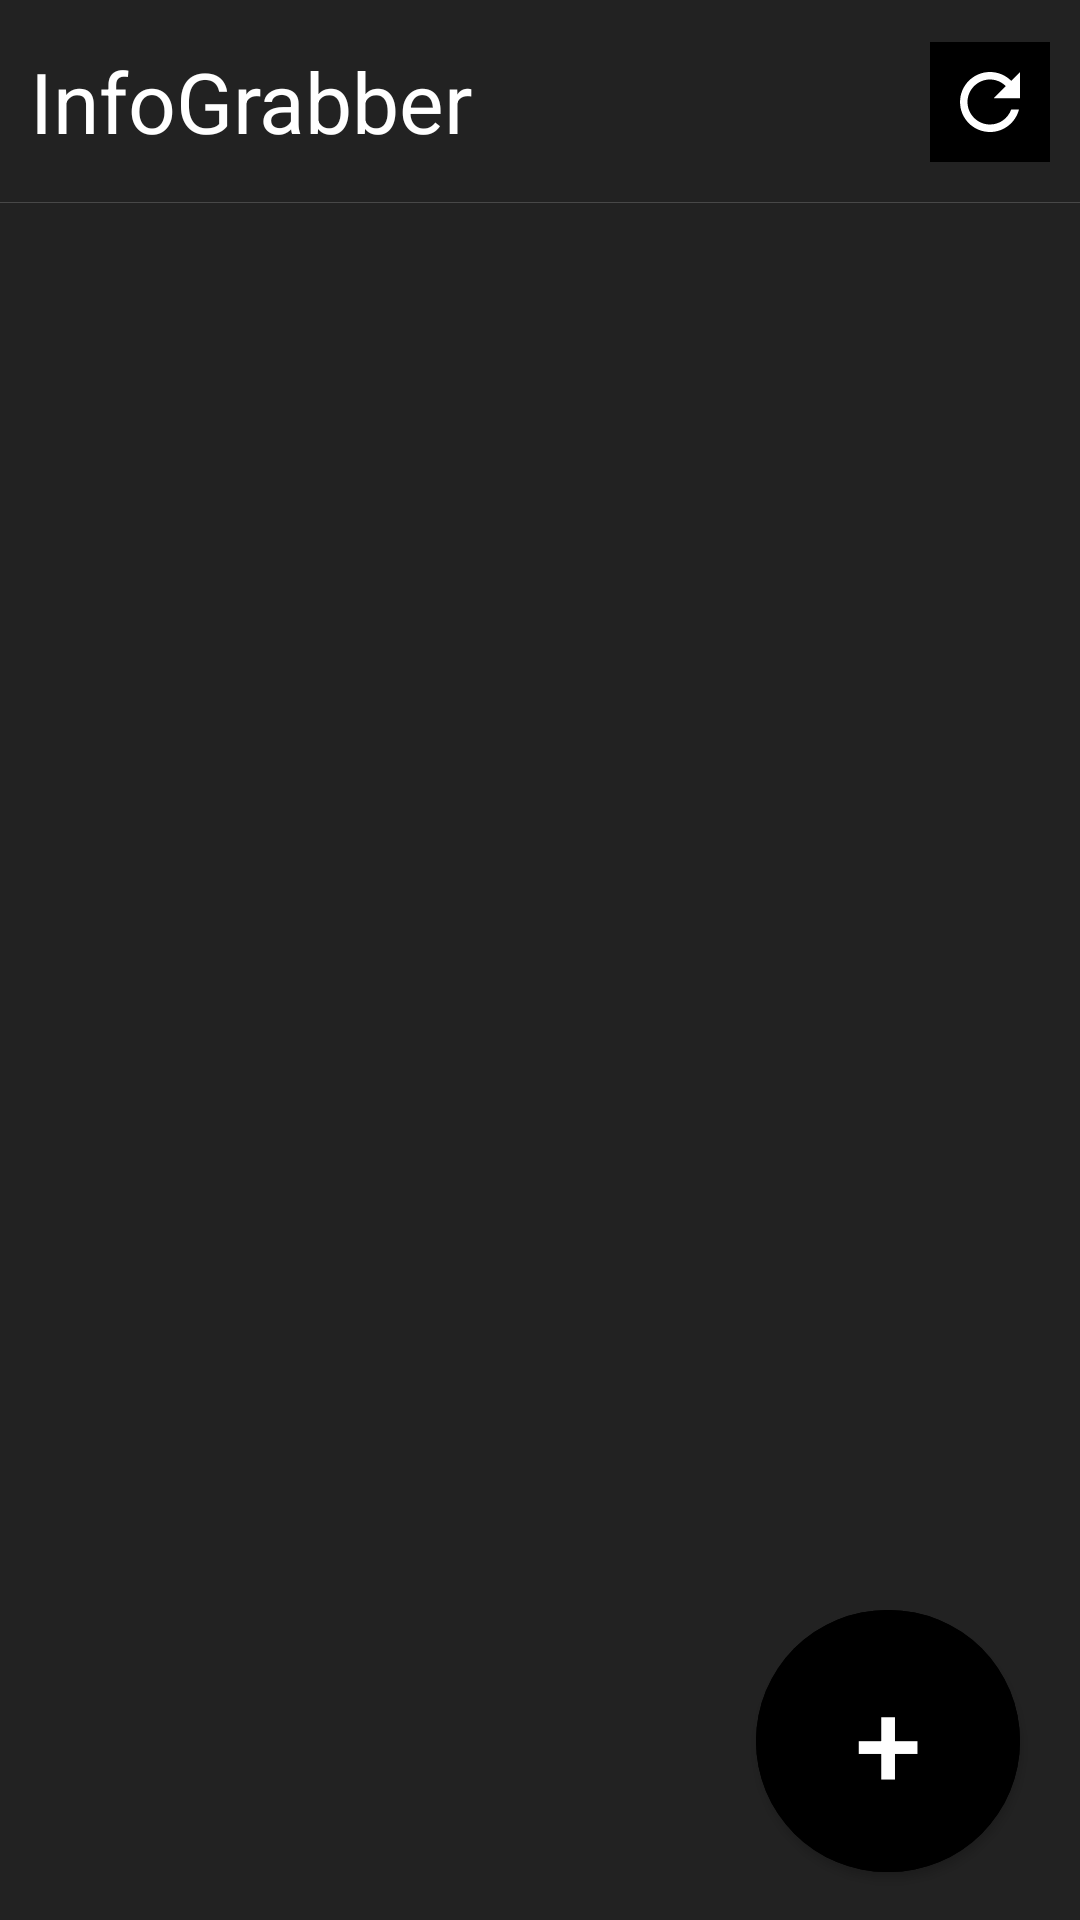

Where to tap for icons on this 1080×1920 app screen, as (x=x, y=y):
refresh: (x=990, y=102)
